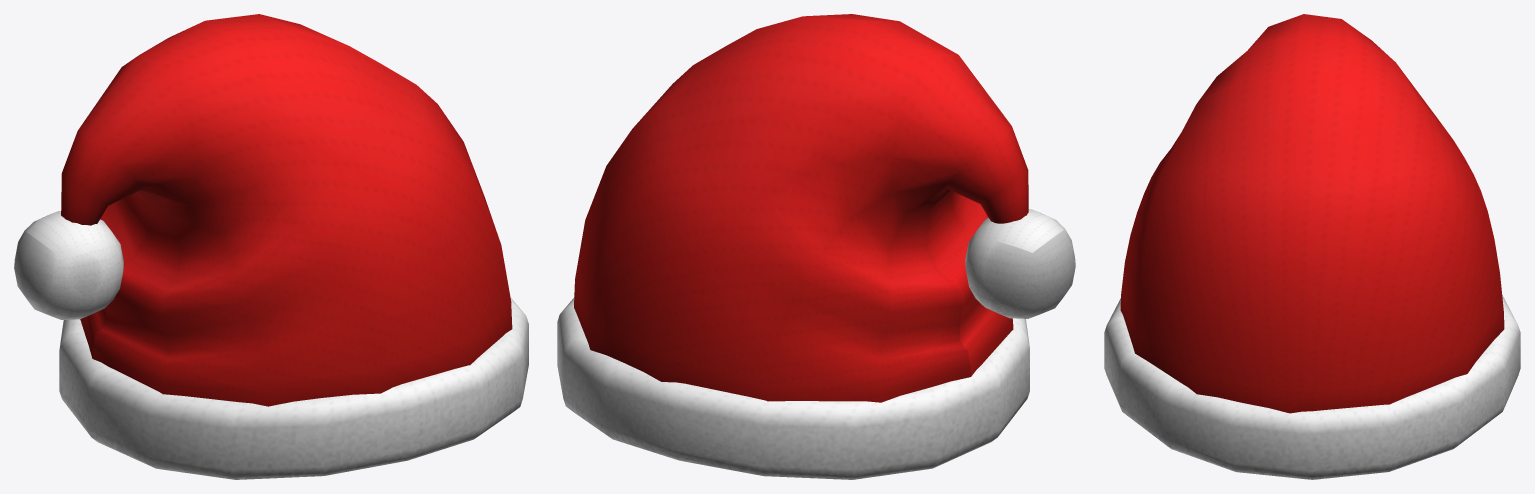
The model's file is Santa_Hat.glb.
3 renders of one model, left to right at view 1: azimuth 30°, elevation 25°; view 2: azimuth 150°, elevation 25°; view 3: azimuth 270°, elevation 25°, orthographic. The views are drawn at different scales.
Parts seen in each view (by area): view 1: Santa_Hat; view 2: Santa_Hat; view 3: Santa_Hat.
Boxes of the visible parts, <box> form: Santa_Hat: <box>14,14,528,479</box>; Santa_Hat: <box>557,14,1075,479</box>; Santa_Hat: <box>1104,14,1520,479</box>.
Bounding box in the file's own units: 0.6055 × 0.4627 × 0.5199.
1 material, 1 textured.
